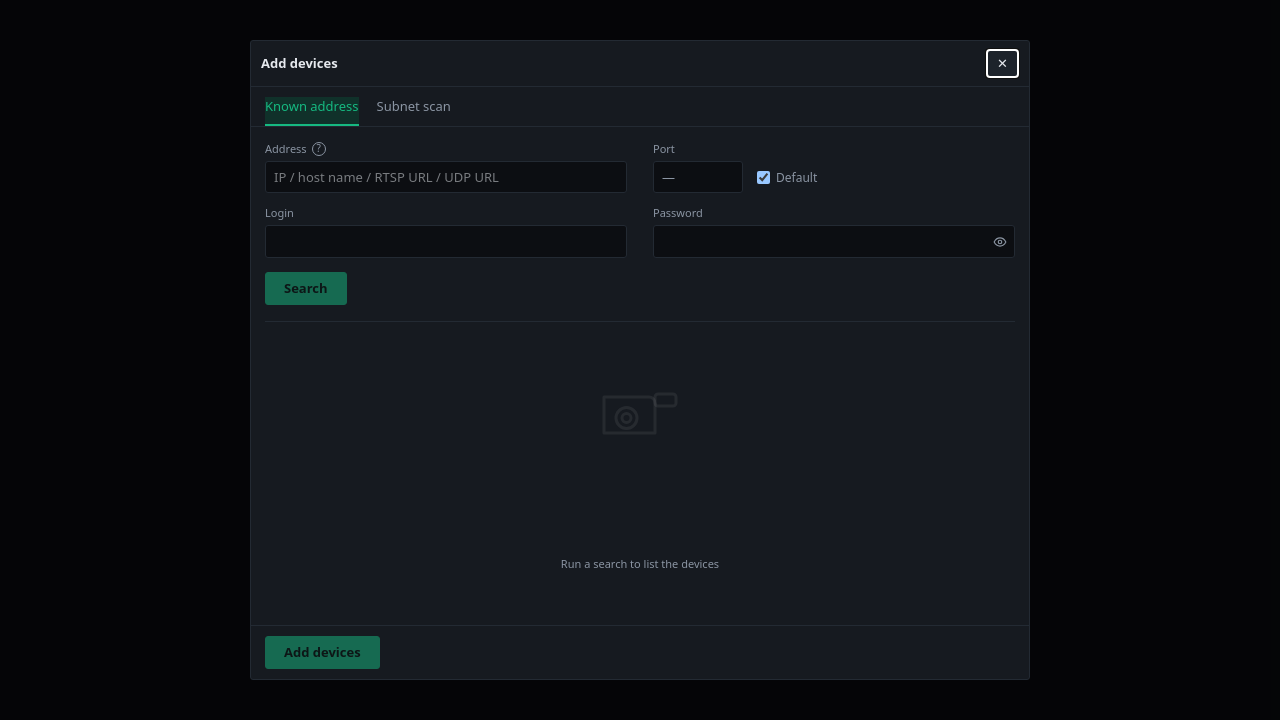
Test case: AddDeviceWizard: no "<name> — <state>" row › does not show the provisioning state under the table
The width and height of the screenshot is (1280, 720).
Click the button "Subnet scan" at (414, 111), box [376,97,451,126]
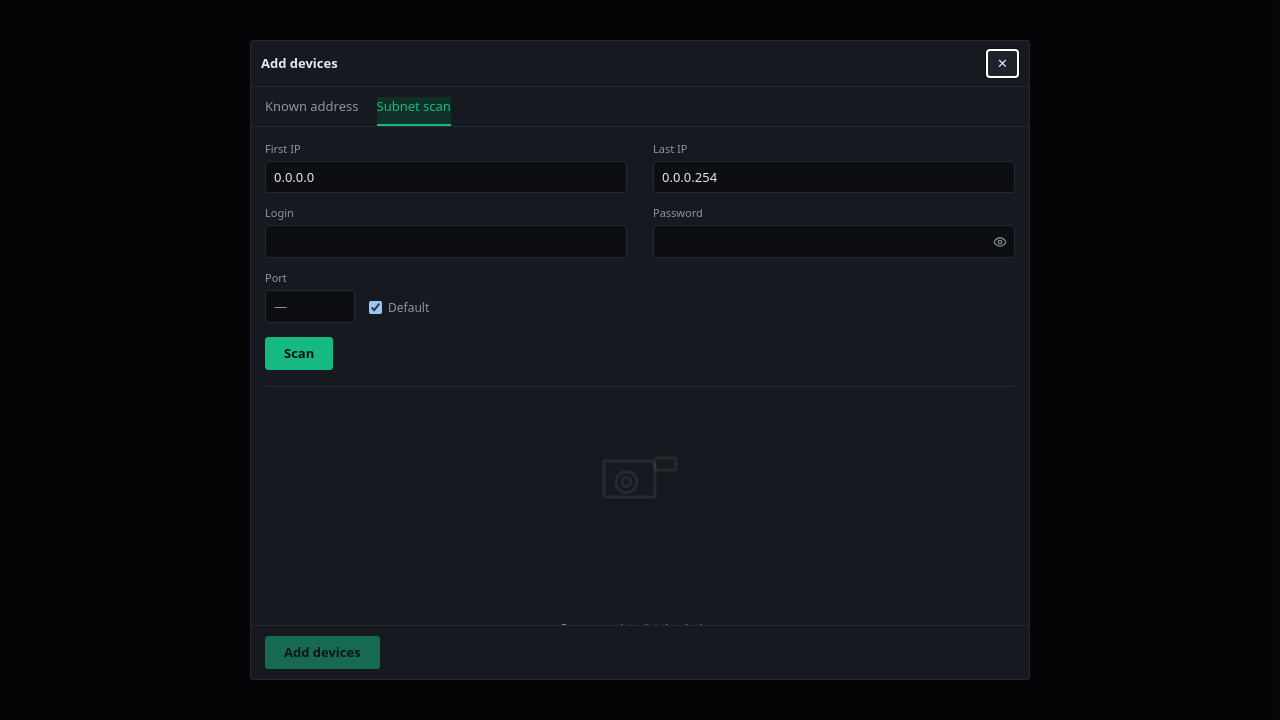
Replace the text in the field labelled "First IP" with "10.0.0.1" at (446, 177), box [265,161,627,193]
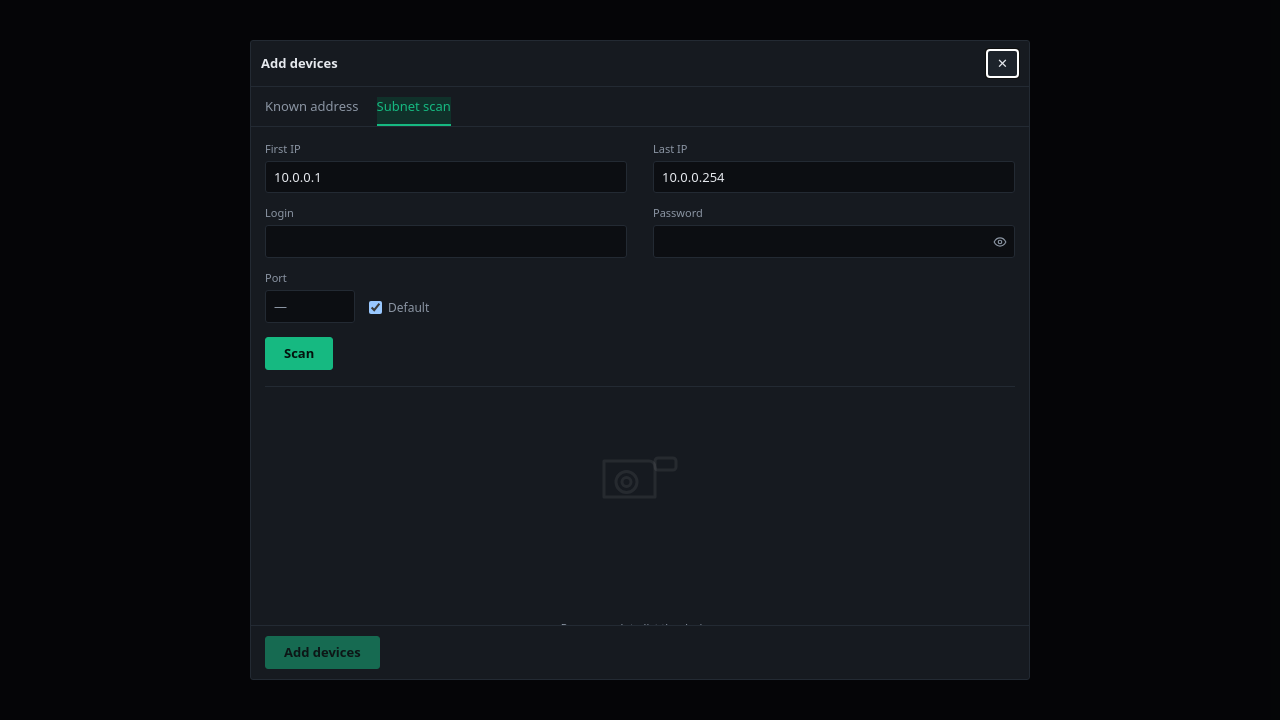
Click the button "Scan" at (299, 353), box [265,337,333,370]
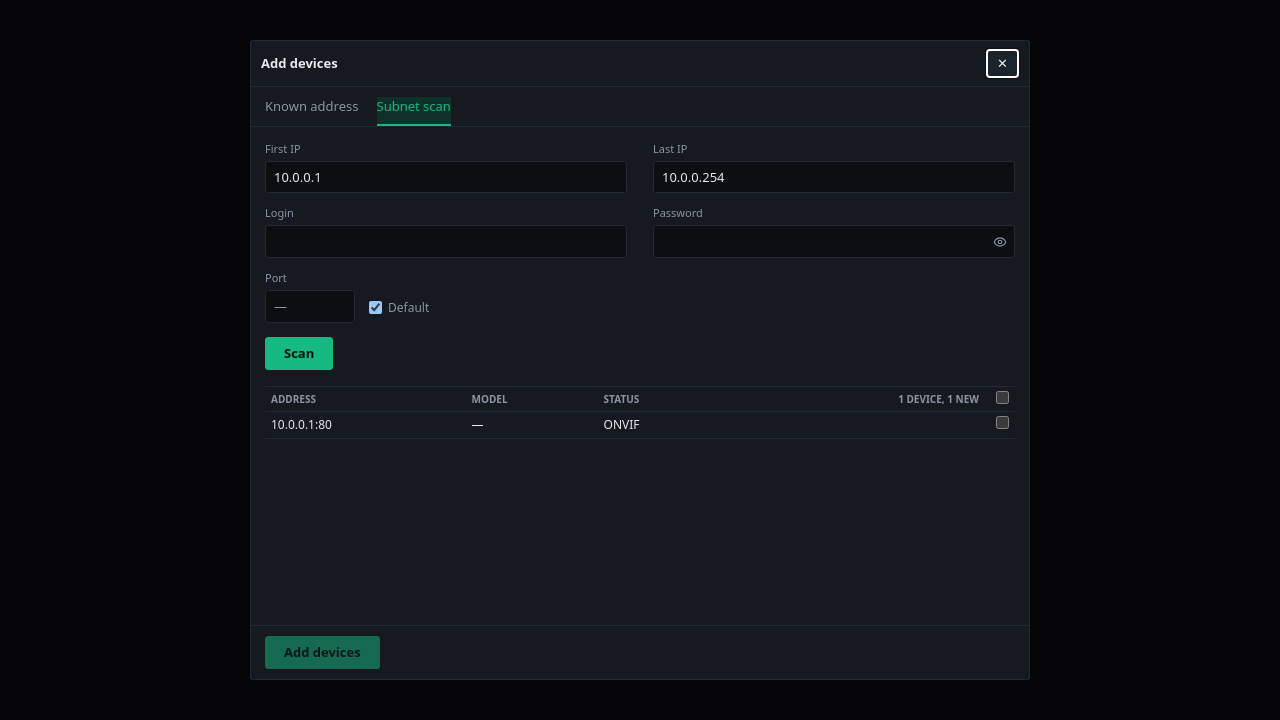
Click the checkbox named "Select 10.0.0.1" at (1002, 423), box [996,416,1009,429]
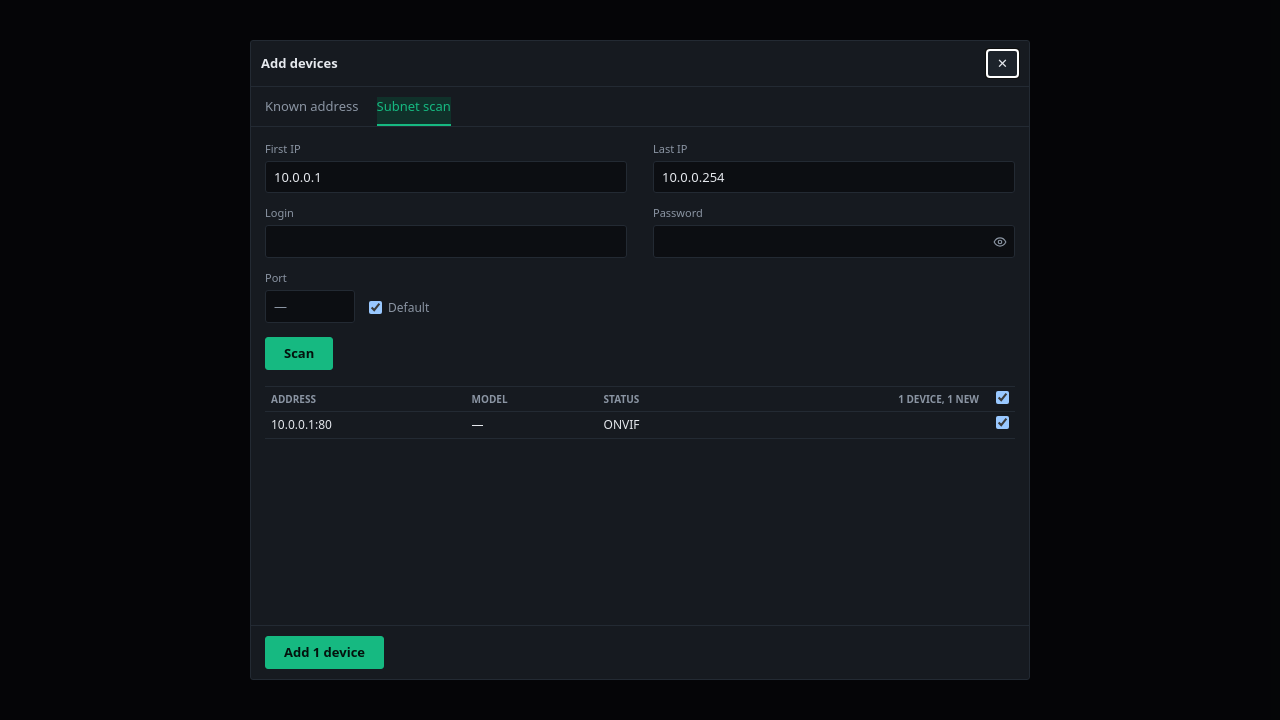
Click the button "Add 1 device" at (324, 653), box [265,636,384,669]
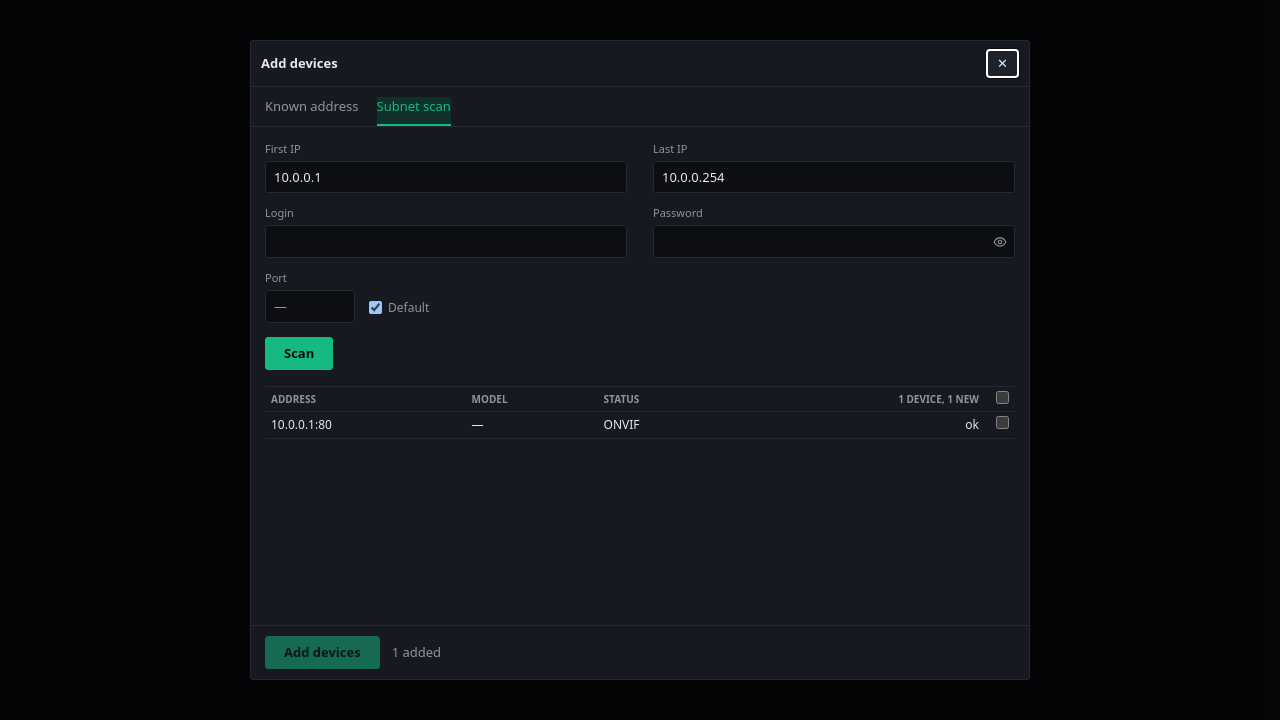
Check: the text "10.0.0.1:80" is shown, box [265,412,466,438]
Check: the text "1 added" is shown, box [392,643,441,662]
